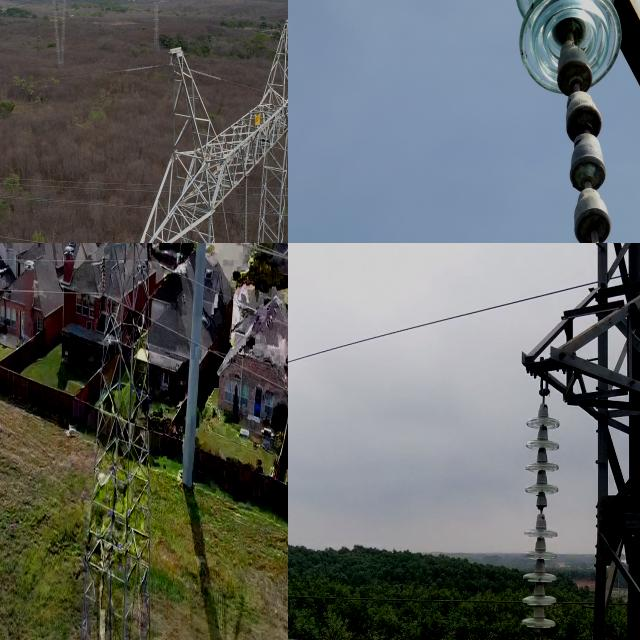杆塔: (525, 243, 640, 640), (123, 15, 288, 243), (75, 243, 159, 640), (48, 0, 81, 77), (151, 0, 165, 67)
正常电缆: (288, 276, 597, 371)
正常绝缘子: (512, 0, 640, 243), (513, 378, 569, 636), (100, 249, 106, 299), (148, 243, 153, 258)
绝缘子破损: (568, 144, 607, 202), (555, 59, 595, 102), (565, 103, 604, 145), (573, 205, 612, 243), (535, 500, 548, 524)
